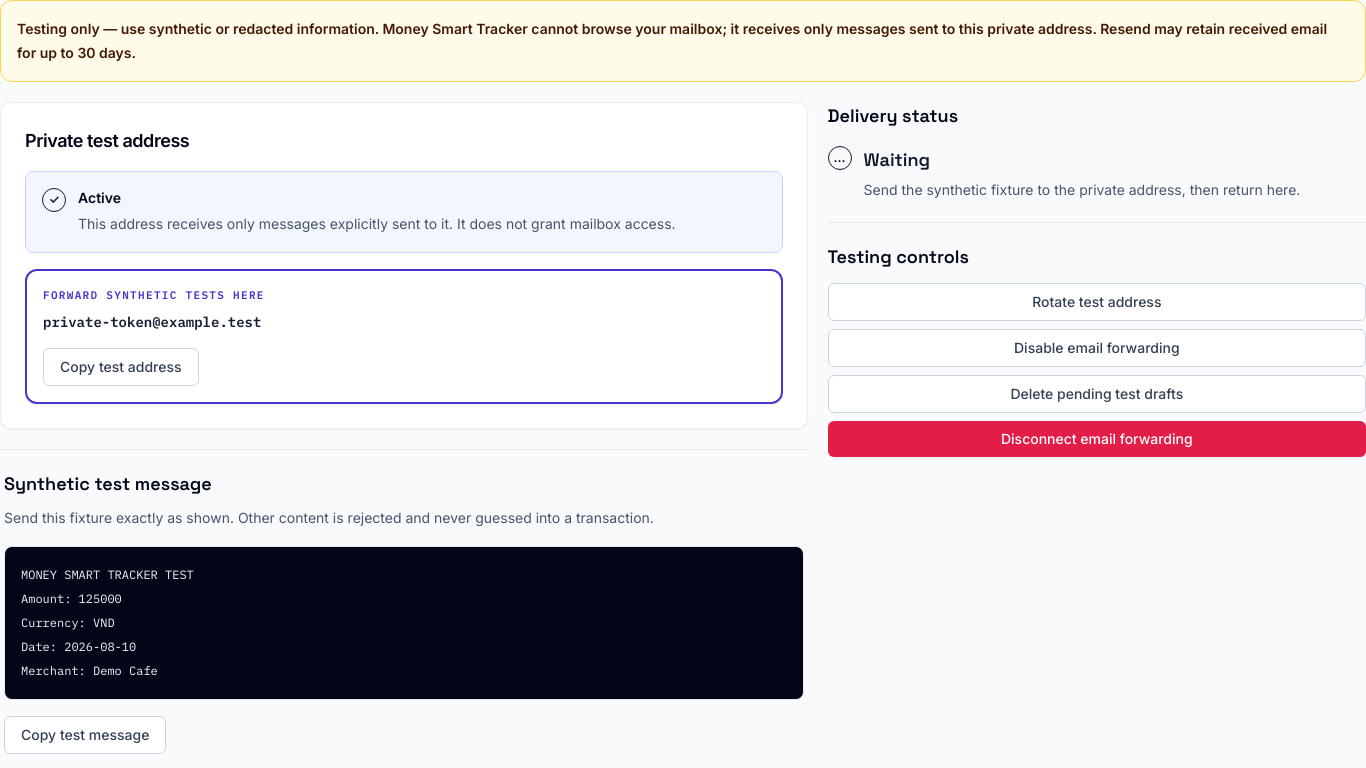
Test: EmailSetupPanel confirmations › shows the exact effect before Delete pending test drafts
The image size is (1366, 768).
Click the button "Delete pending test drafts": [1097, 394] box [828, 375, 1365, 413]
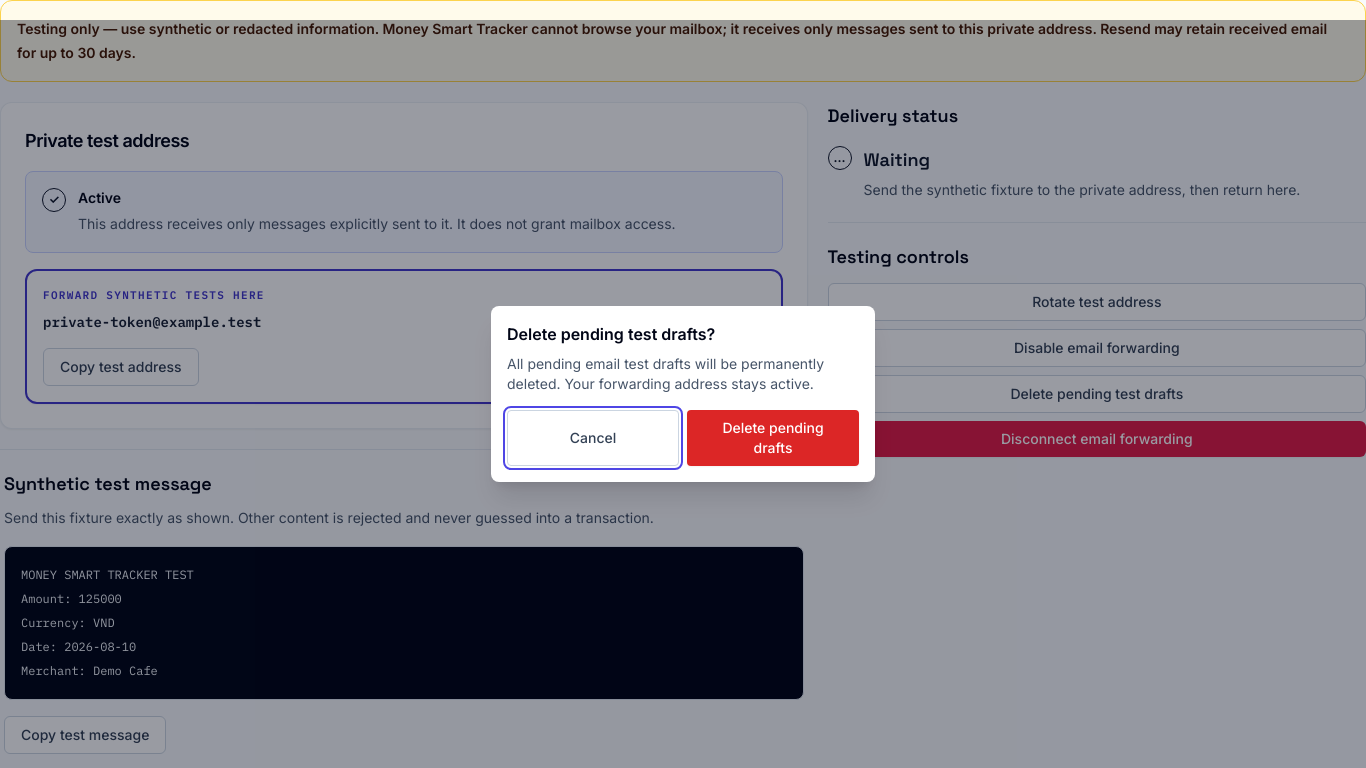
Result: the text "All pending email test drafts will be permanently deleted. Your forwarding address stays active." is shown at [507, 355, 824, 392]
Result: the button "Delete pending drafts" is shown at [687, 410, 859, 466]
